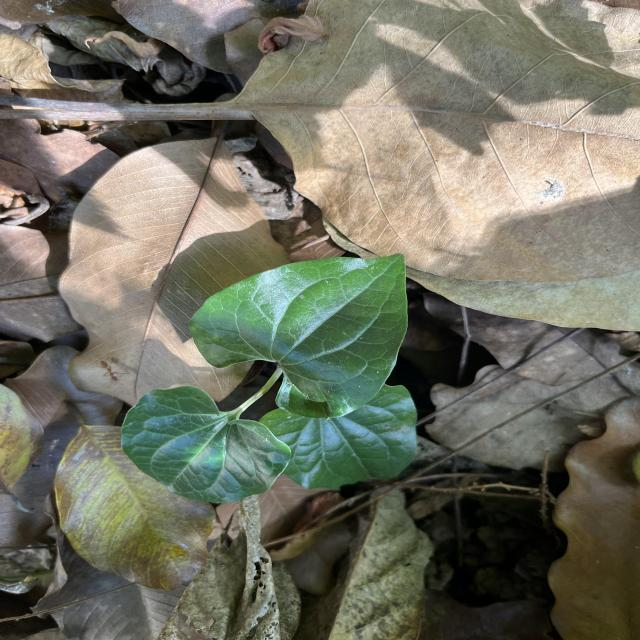Piper longum: (186, 252, 410, 424), (119, 384, 292, 504)
